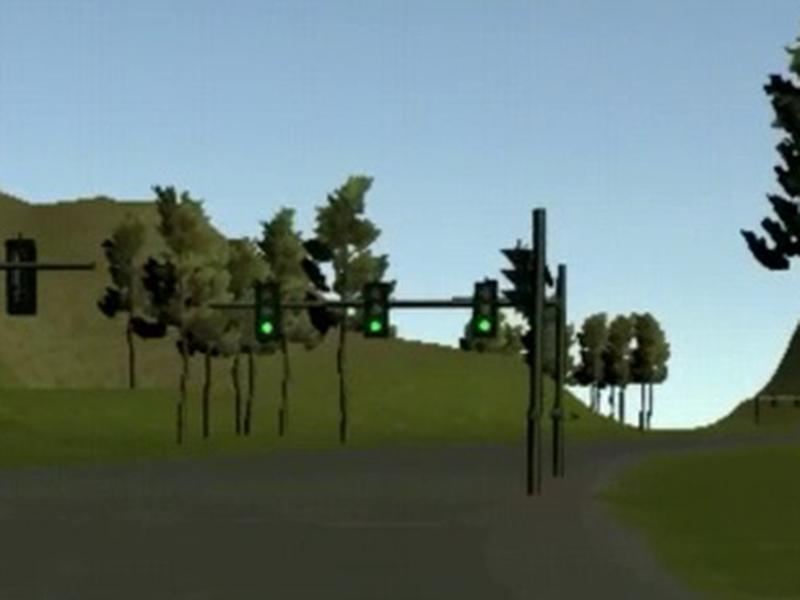Green: (361, 281, 390, 338), (254, 281, 281, 341), (472, 279, 499, 336)
